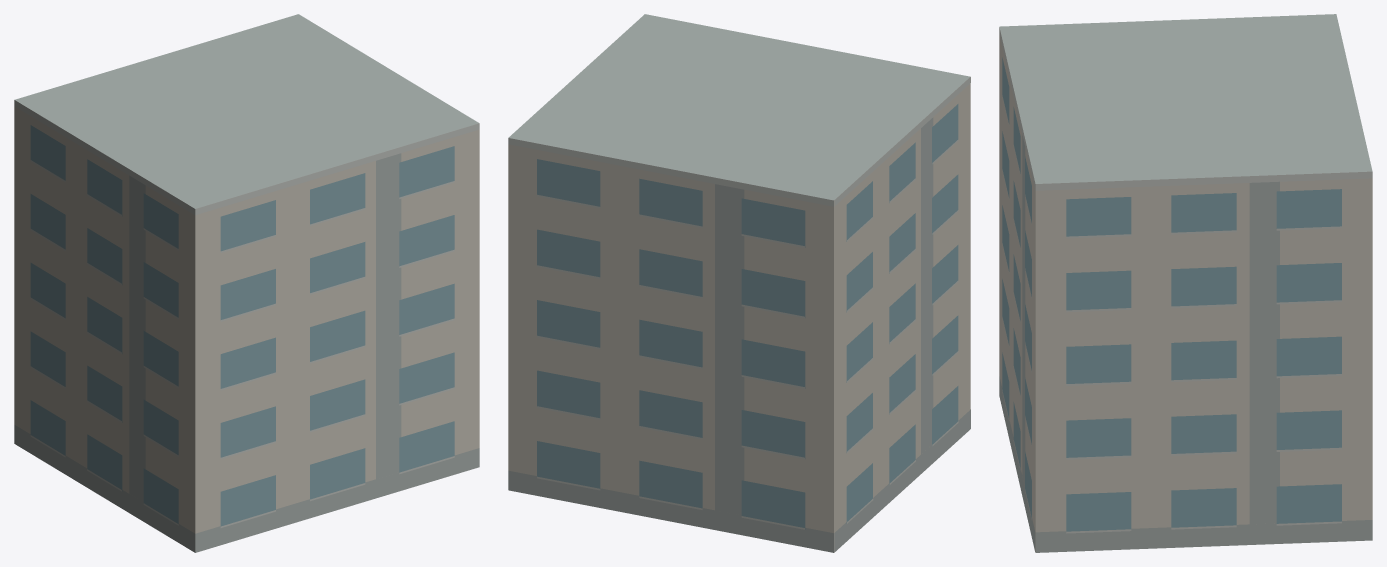
Rendered from survey-upis-32525065.glb.
3 renders of one model, left to right at view 1: azimuth 30°, elevation 25°; view 2: azimuth 150°, elevation 25°; view 3: azimuth 270°, elevation 25°, orthographic. The views are drawn at different scales.
Visible parts, largest first — view 1: survey-upis-32525065.tmp; view 2: survey-upis-32525065.tmp; view 3: survey-upis-32525065.tmp.
Part boxes in pixels (x1,y1,x2,y2): survey-upis-32525065.tmp: [14, 14, 479, 552]; survey-upis-32525065.tmp: [508, 14, 970, 552]; survey-upis-32525065.tmp: [999, 14, 1372, 552].
Bounding box in the file's own units: 13.16 × 13.3 × 12.21.
